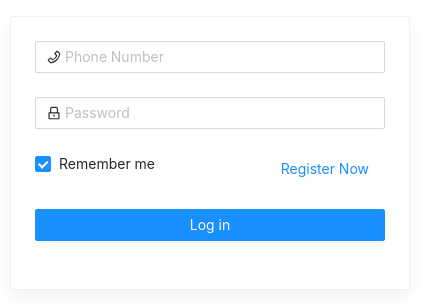
Test: Login Form Test › should prevent blank input login
The width and height of the screenshot is (427, 307).
Click the button with test id "login" at (210, 225), box [35,209,385,241]
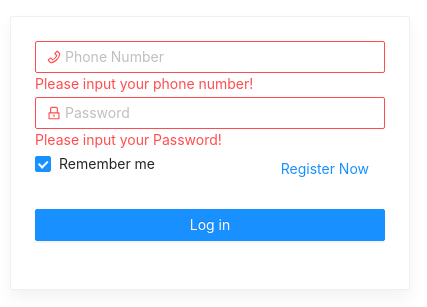
expect the message "Please input your phone number!" is shown: met, box [35,75,253,92]
